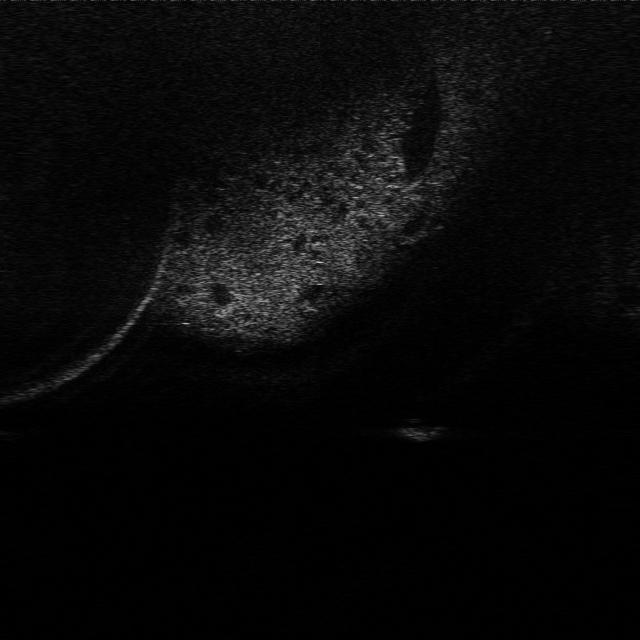cube: (393, 410, 447, 447)
